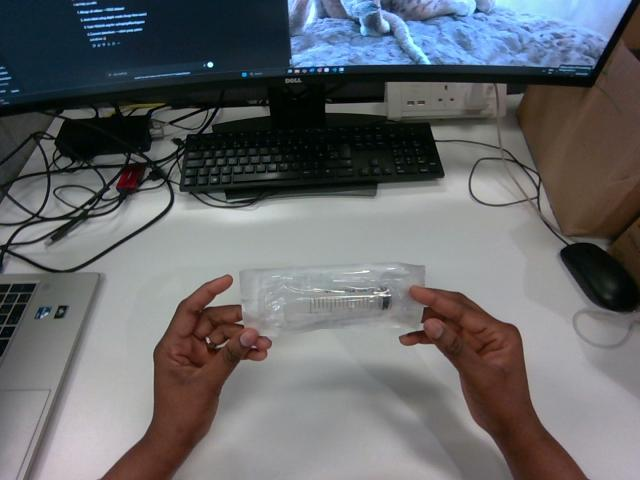syringe: (240, 263, 424, 335)
